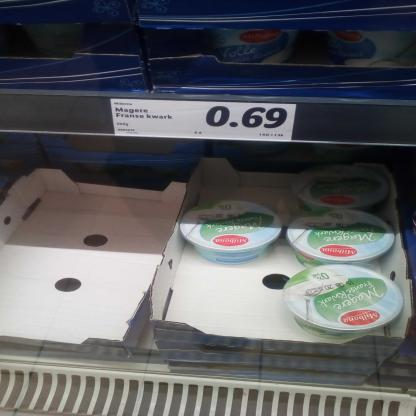prtg: (111, 99, 298, 142)
